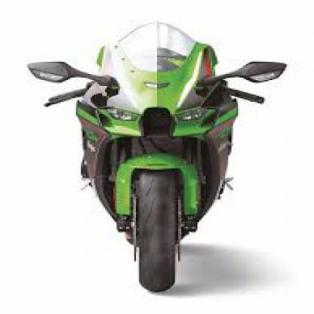Motocicleta: (17, 9, 294, 300)
